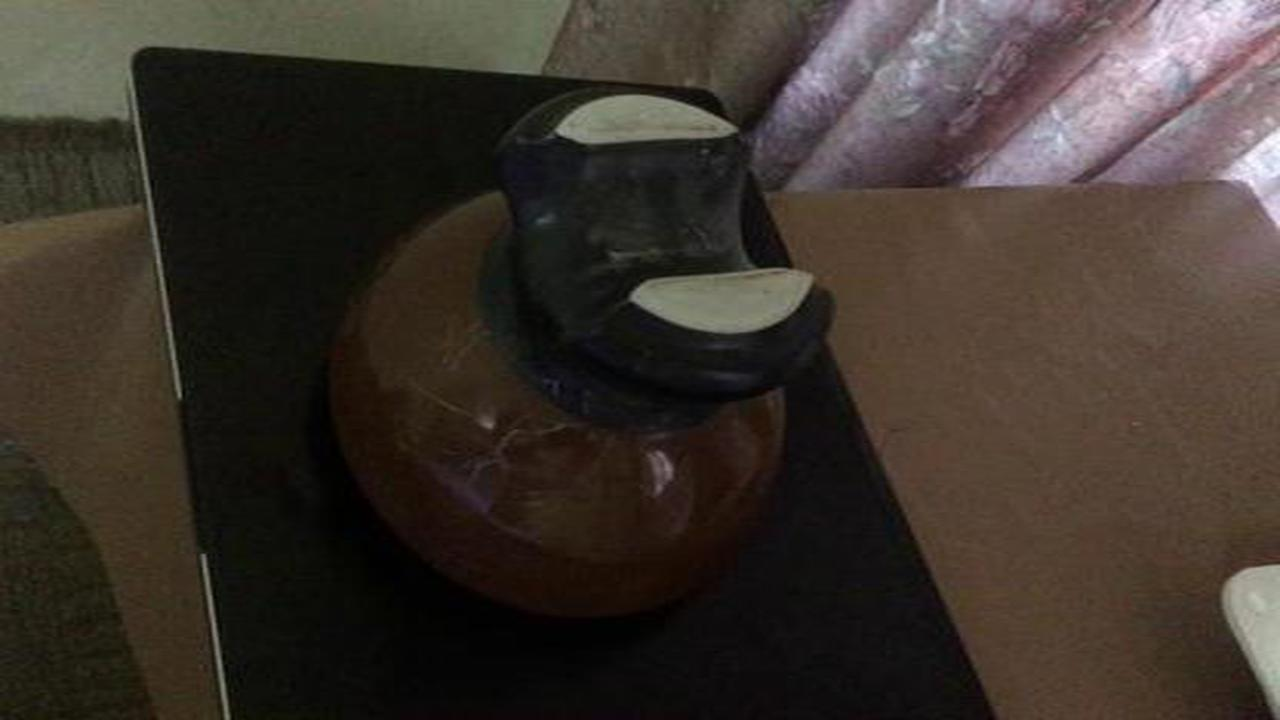insulator_pin: (311, 71, 859, 648)
